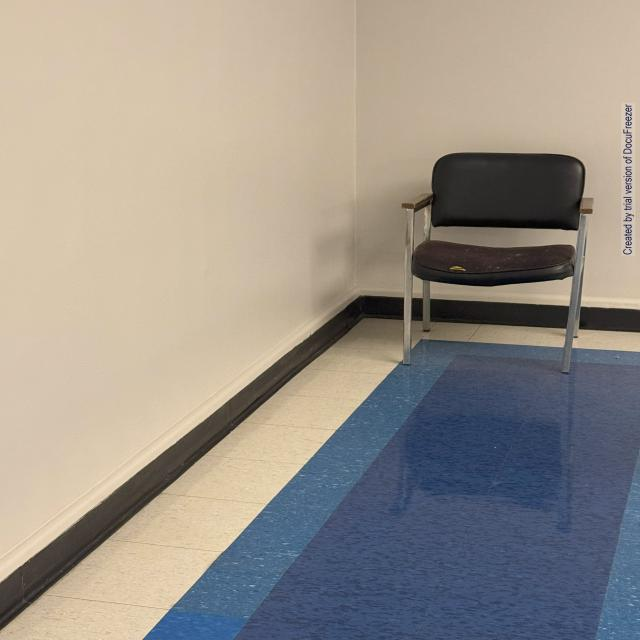chair: (402, 134, 631, 384)
